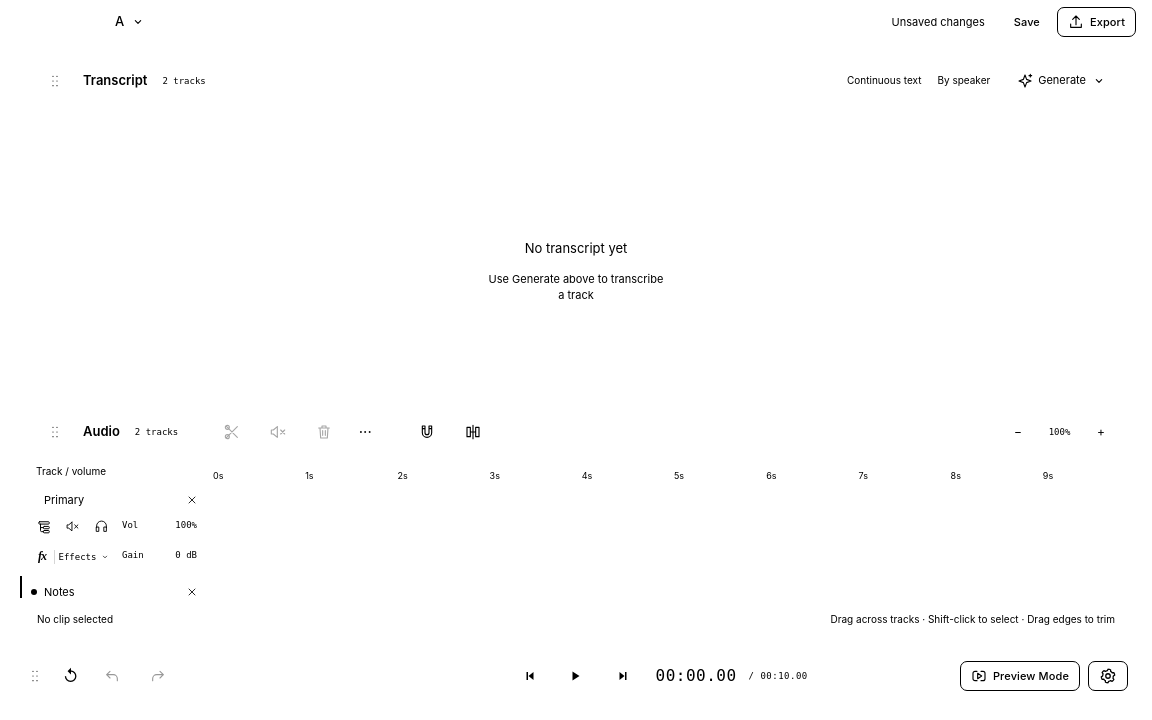
Test: App transcription job identity › shows the same sanitized current-session failure for Save As button without clearing dirty
Click the button "A".
click(131, 22)  # box [100,6,161,38]
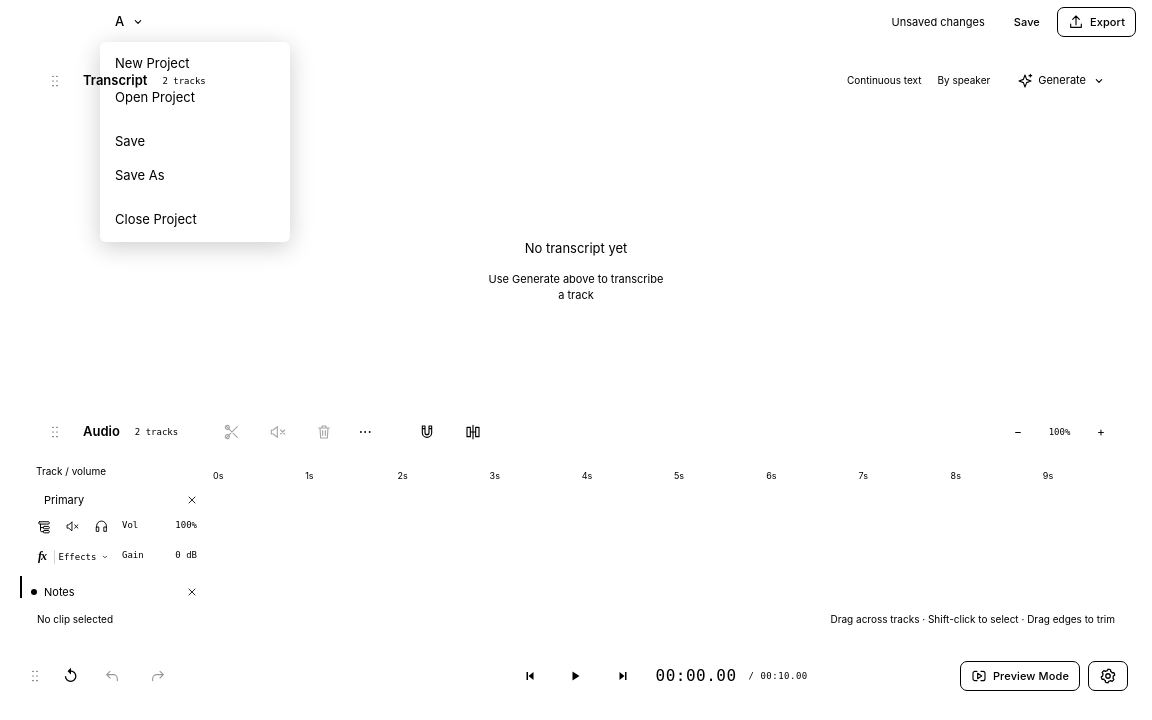
Click the menu item "Save As".
click(195, 175)  # box [105,158,285,192]
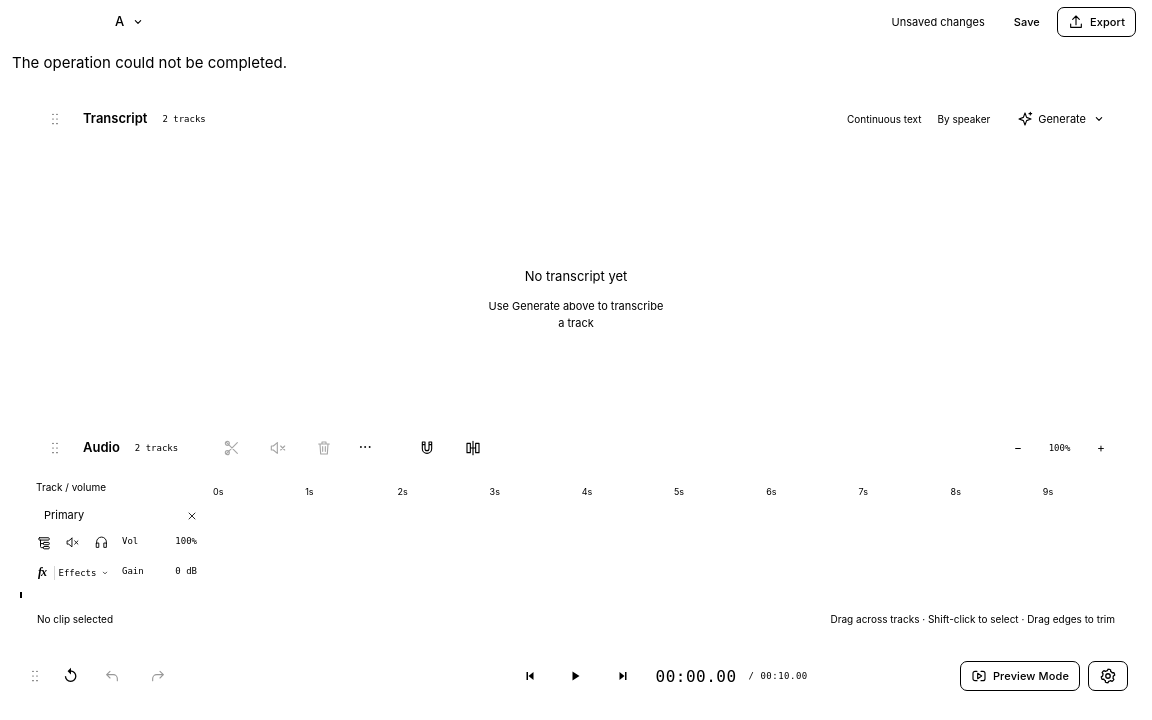
Result: the message "The operation could not be completed." is shown at [12,53,287,72]
